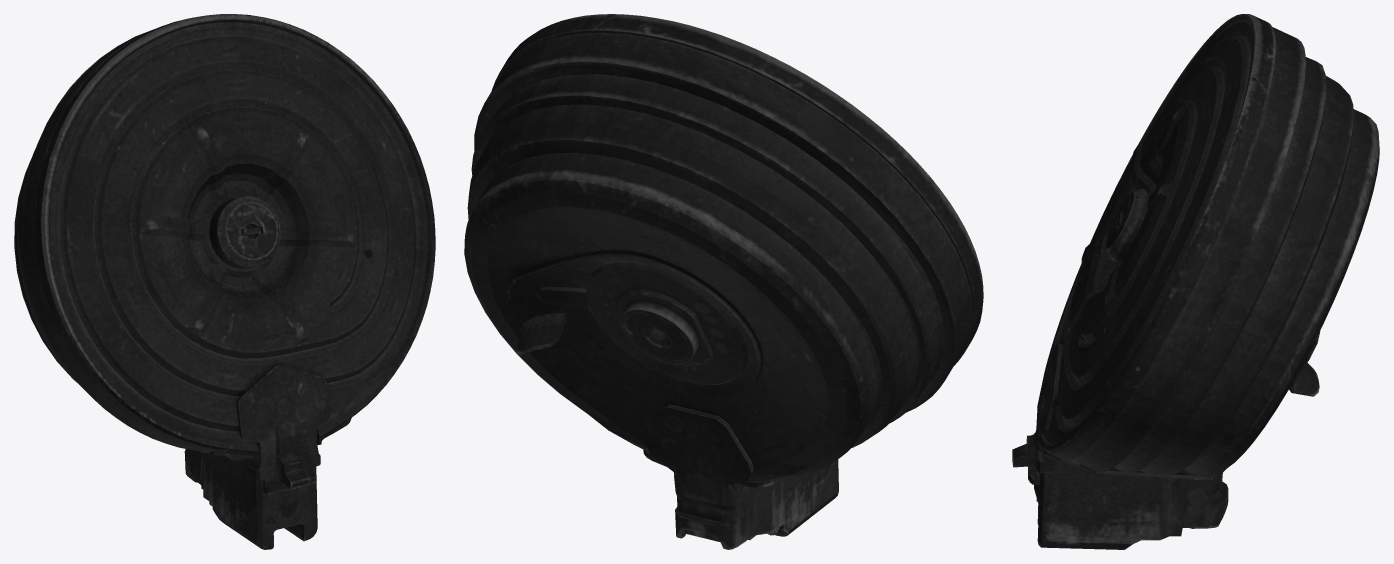
3 views of the same model, side by side, from view 1: azimuth 30°, elevation 25°; view 2: azimuth 150°, elevation 25°; view 3: azimuth 270°, elevation 25° (orthographic). The views are drawn at different scales.
Visible parts, largest first — view 1: TW_5cbdc23eae9215001136a407_PZ_Import; view 2: TW_5cbdc23eae9215001136a407_PZ_Import; view 3: TW_5cbdc23eae9215001136a407_PZ_Import.
Part boxes in pixels (left/top/right/bottom): TW_5cbdc23eae9215001136a407_PZ_Import: left=14, top=14, right=435, bottom=549; TW_5cbdc23eae9215001136a407_PZ_Import: left=464, top=14, right=983, bottom=549; TW_5cbdc23eae9215001136a407_PZ_Import: left=1012, top=14, right=1379, bottom=549.
Bounding box in the file's own units: 0.0938 × 0.0713 × 0.1071.
Materials: 1 (1 with a texture image).
